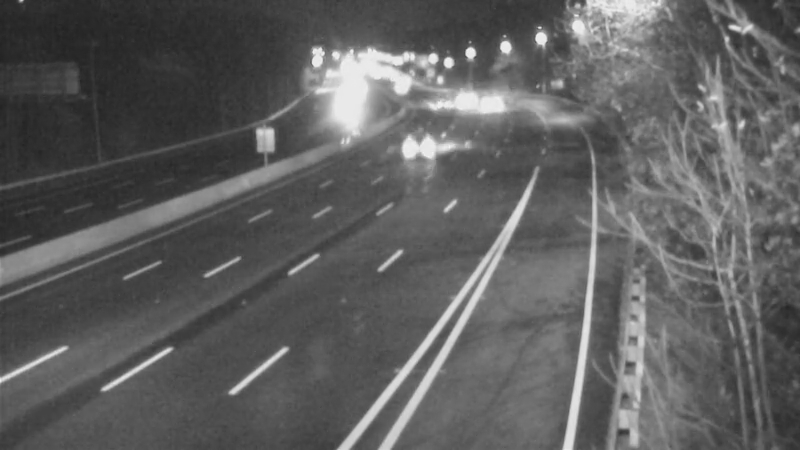vehicle: (372, 61, 422, 111), (440, 69, 490, 119), (413, 84, 463, 134), (466, 79, 516, 129), (391, 122, 441, 172)
